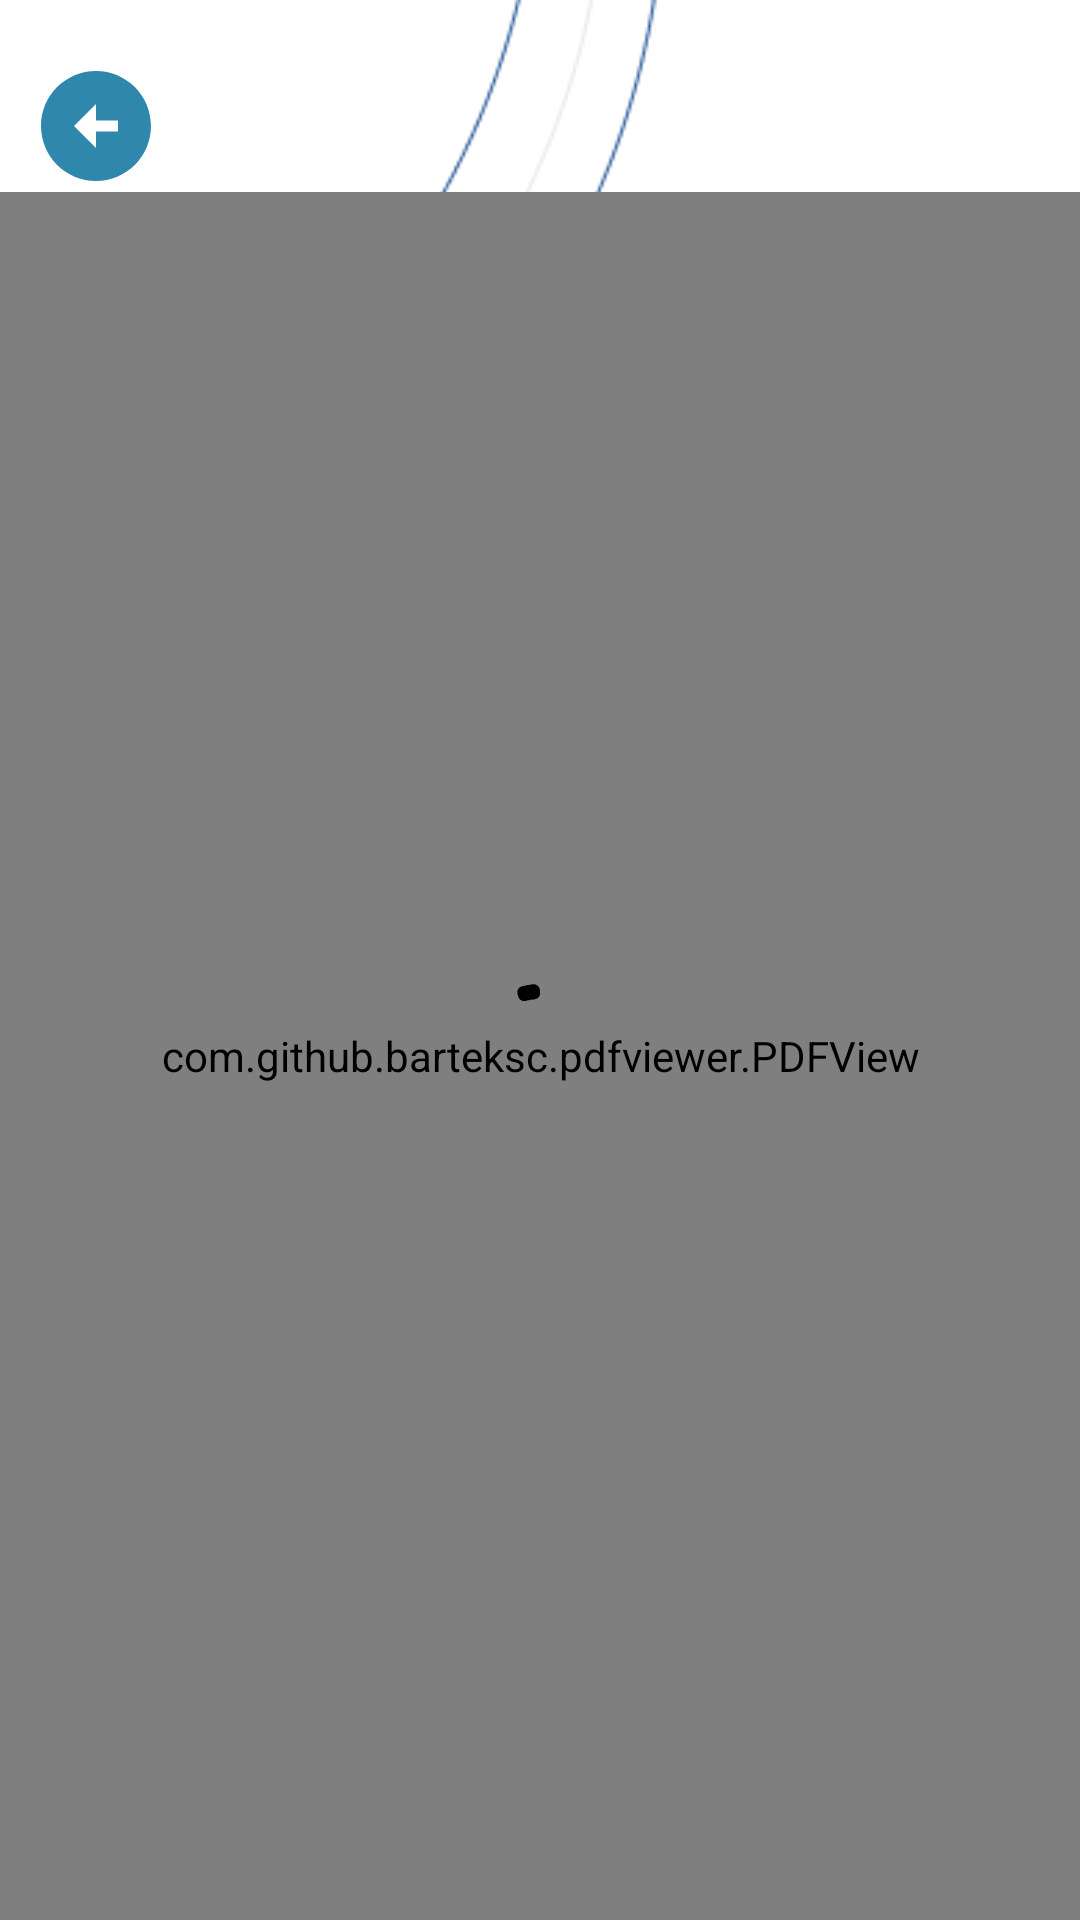

Icon bounding boxes for this 1080w x 1920h phone screenshot, format [x1, y1, x2, y2]:
arrow back: [41, 71, 151, 181]
